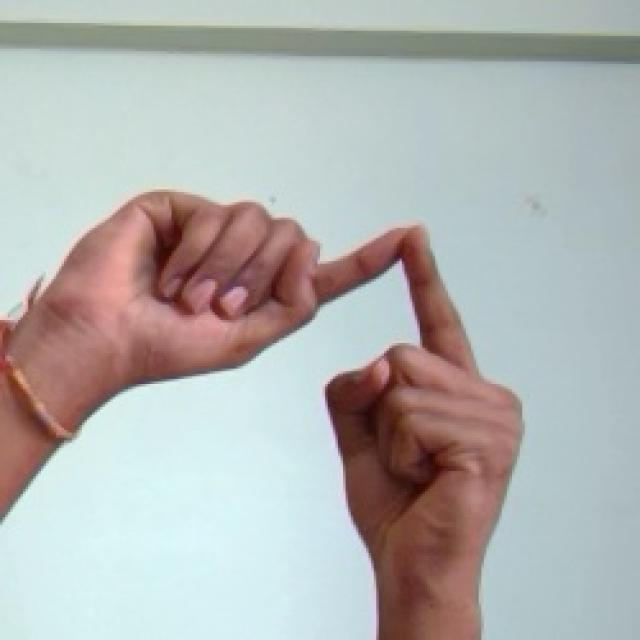Alphabet-E: (0, 192, 522, 639)
